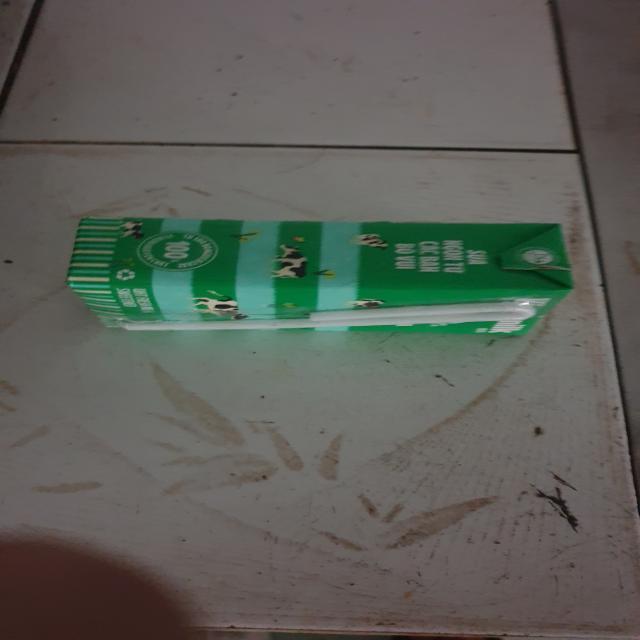Vina: (62, 211, 587, 346)
